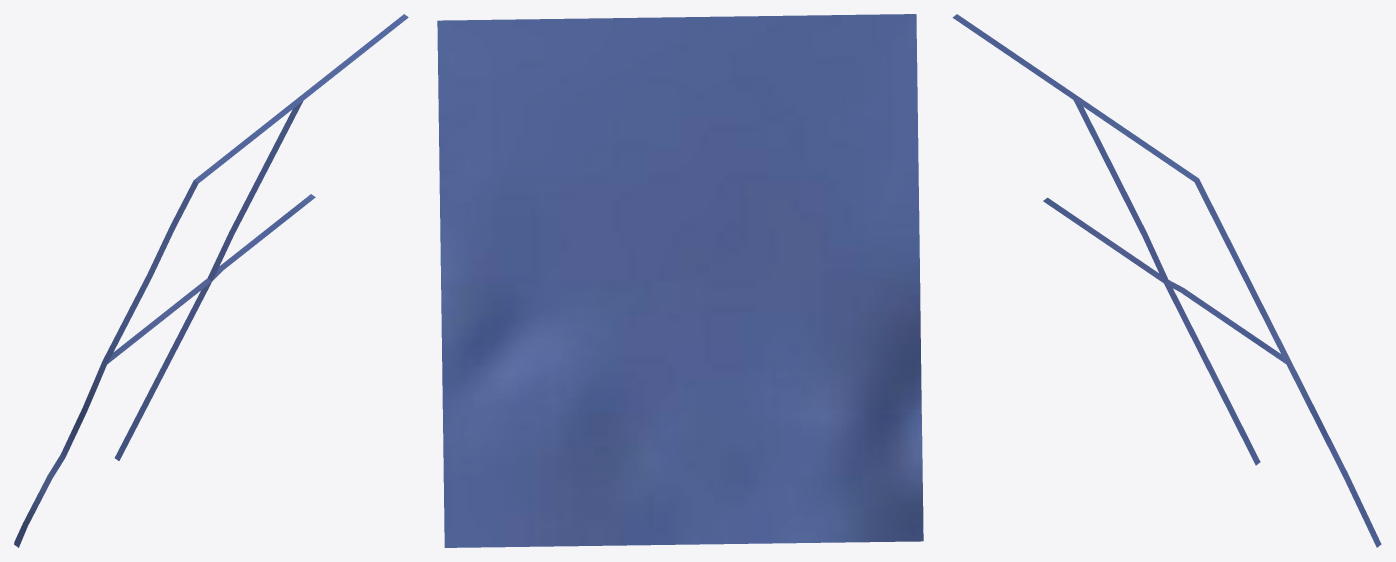
The picture shows the model from 3 angles, left to right: view 1: azimuth 30°, elevation 25°; view 2: azimuth 150°, elevation 25°; view 3: azimuth 270°, elevation 25°; orthographic projection. The views are drawn at different scales.
Bounding box in the file's own units: 9730 × 8937 × 8306.
Materials: 1 (1 with a texture image).
